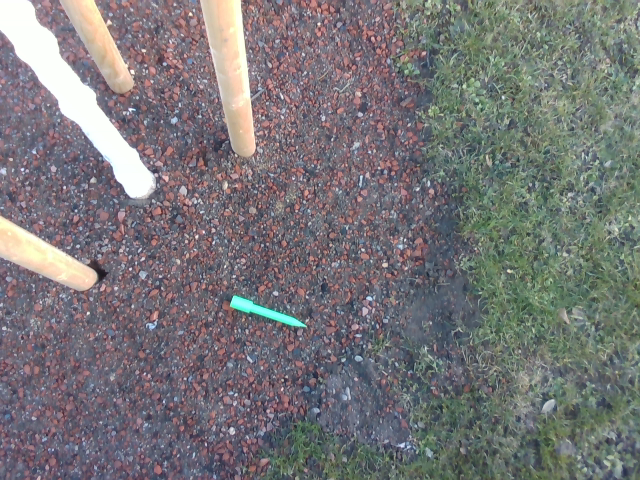Probe: (227, 290, 312, 331)
